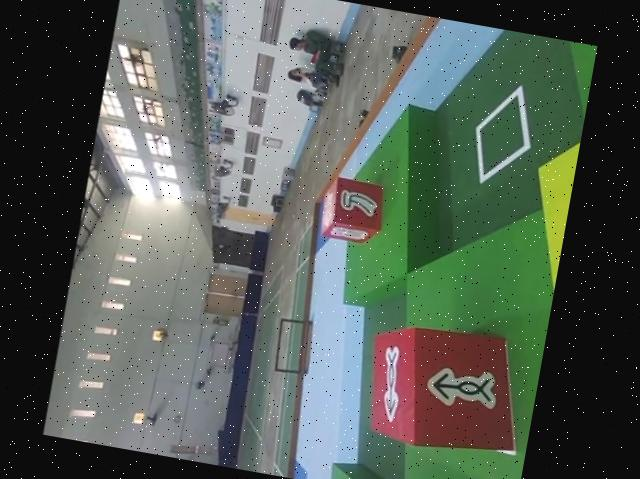R2 Fake: (322, 173, 389, 246)
R2 Real: (360, 314, 533, 466)
